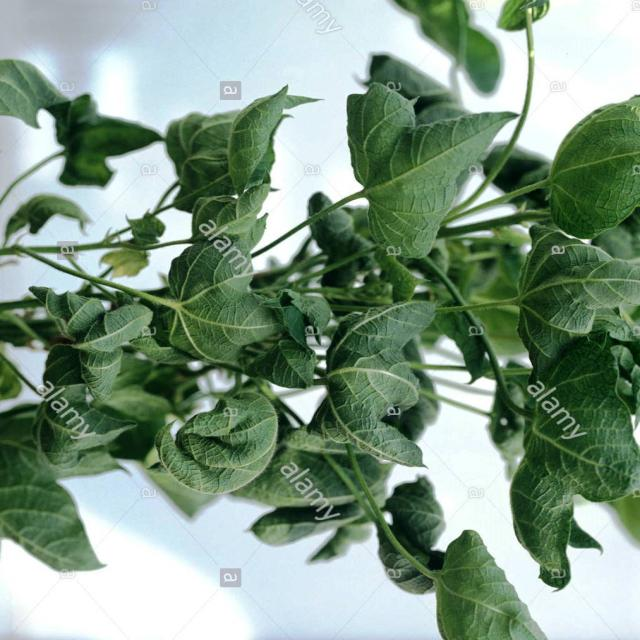Leaf Curl Virus: (7, 135, 640, 463)
